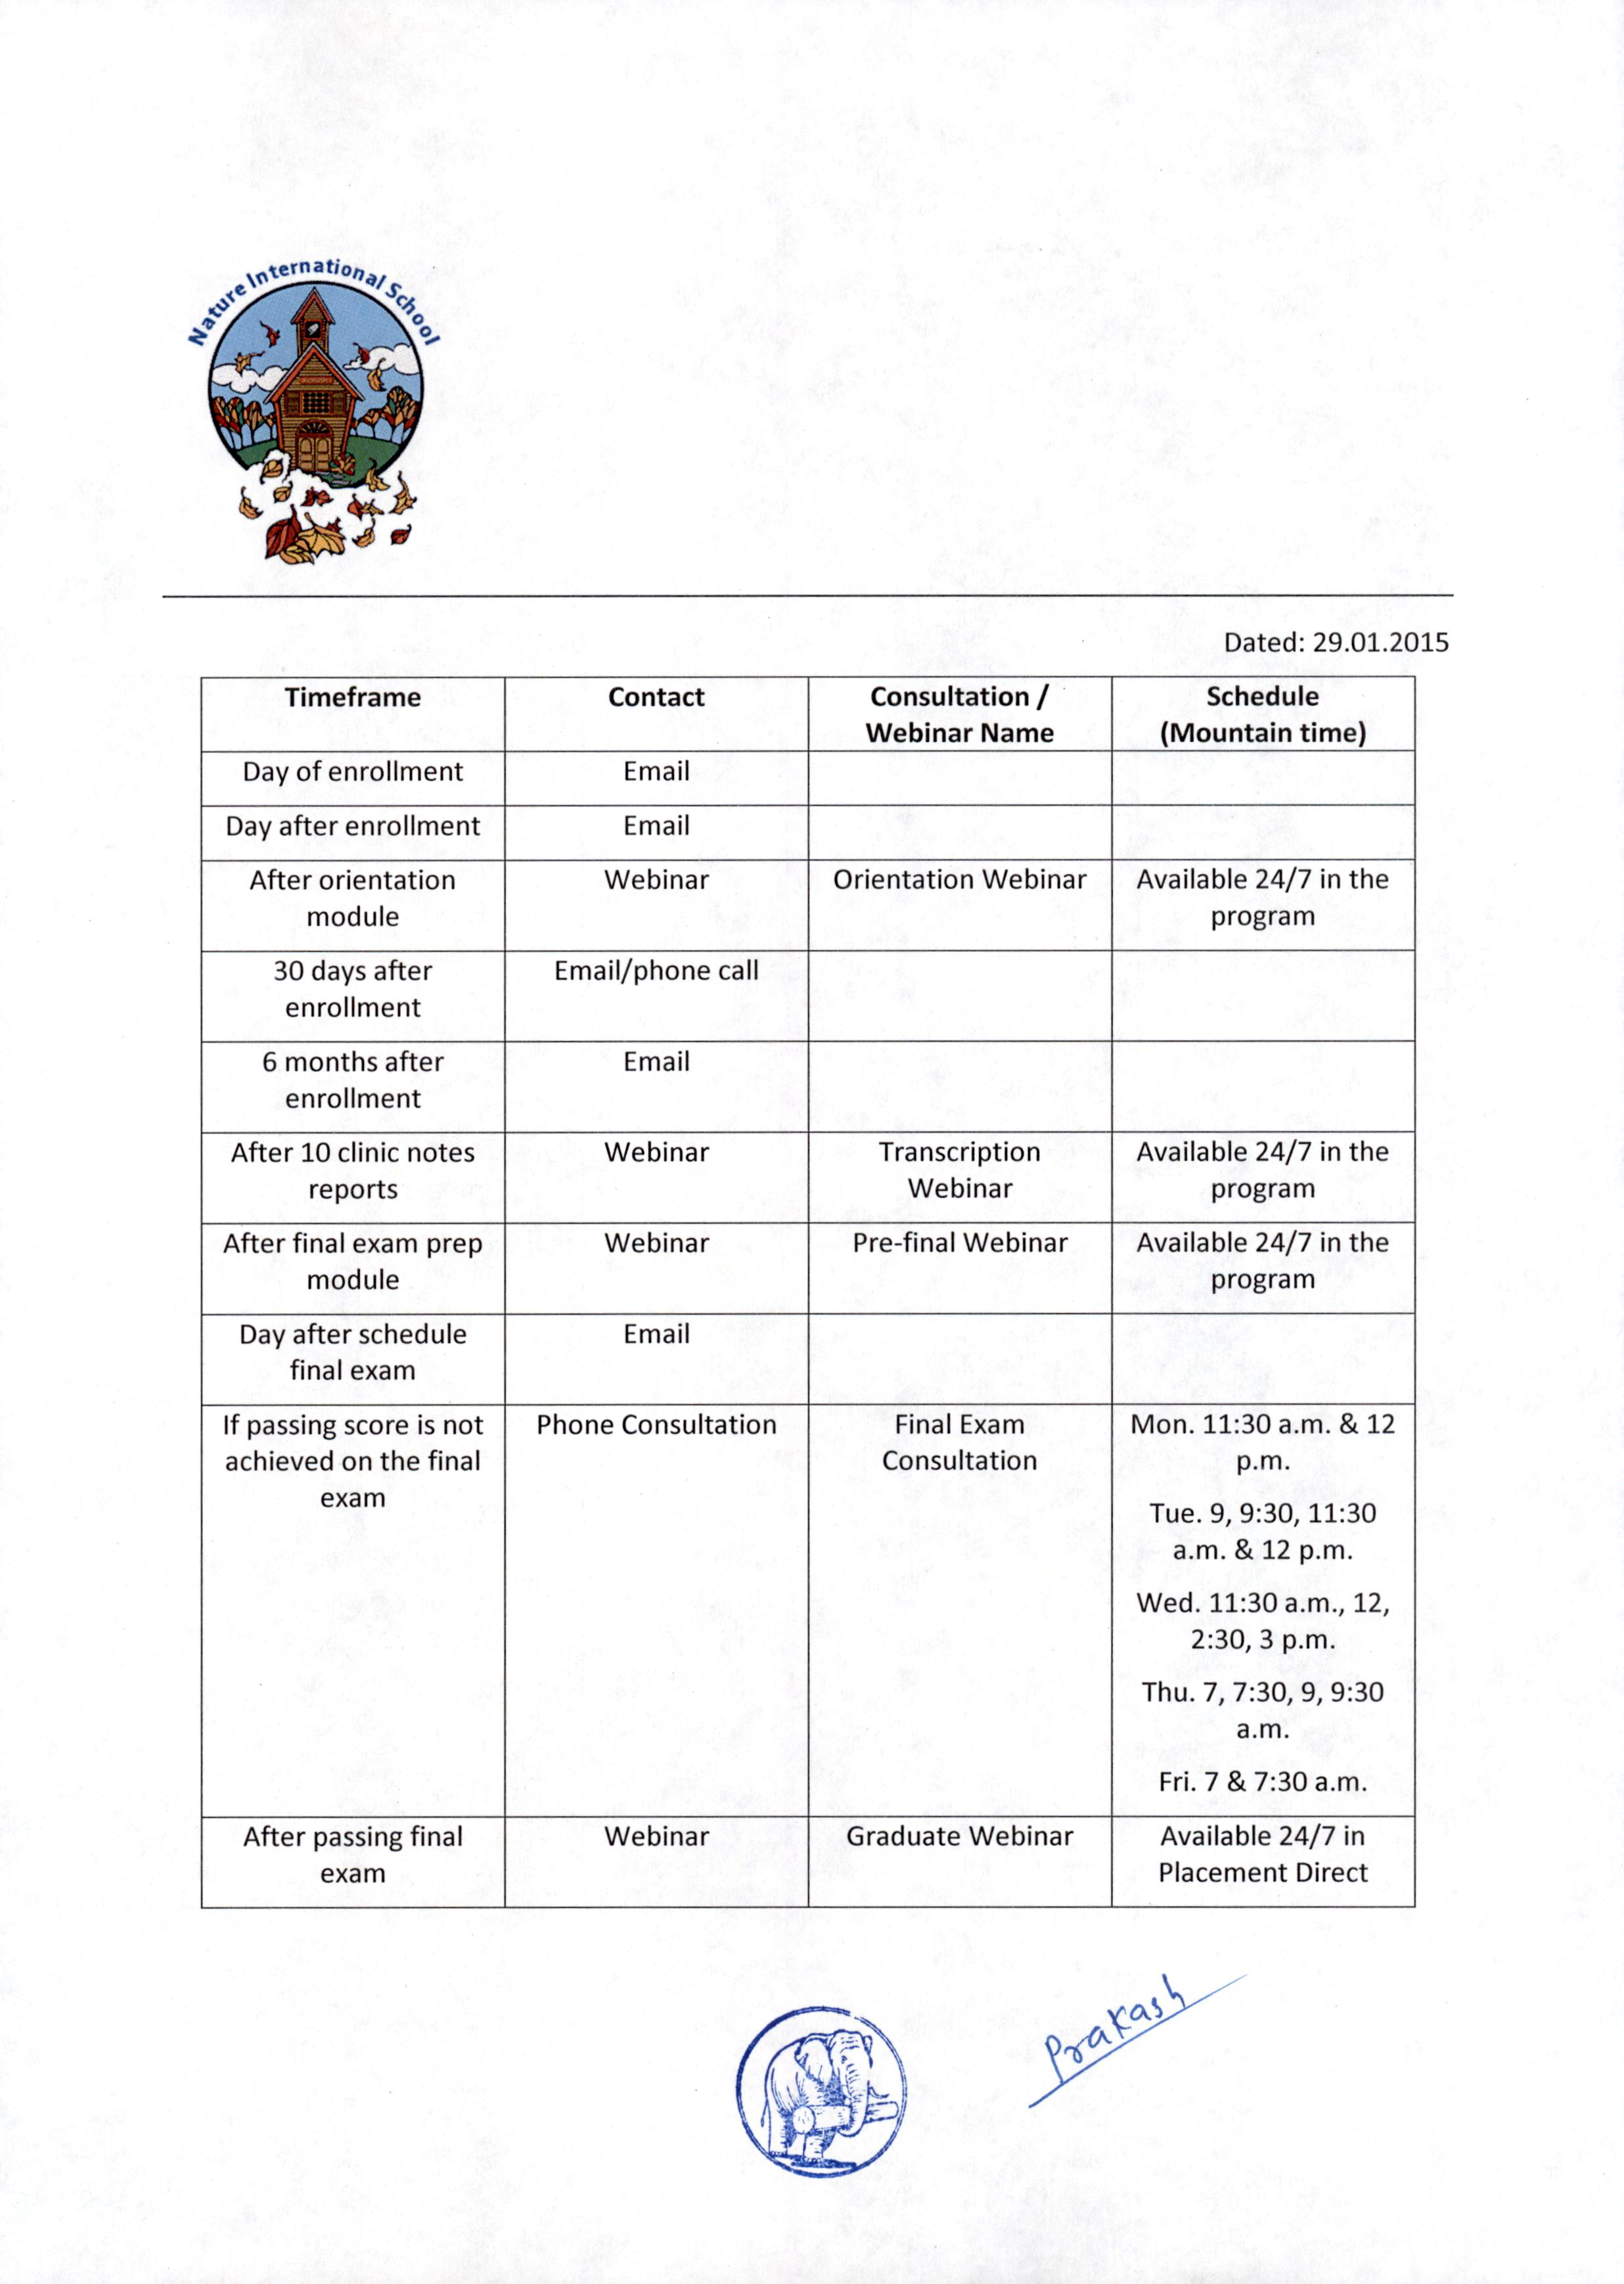Signature: (1016, 1968, 1257, 2115)
